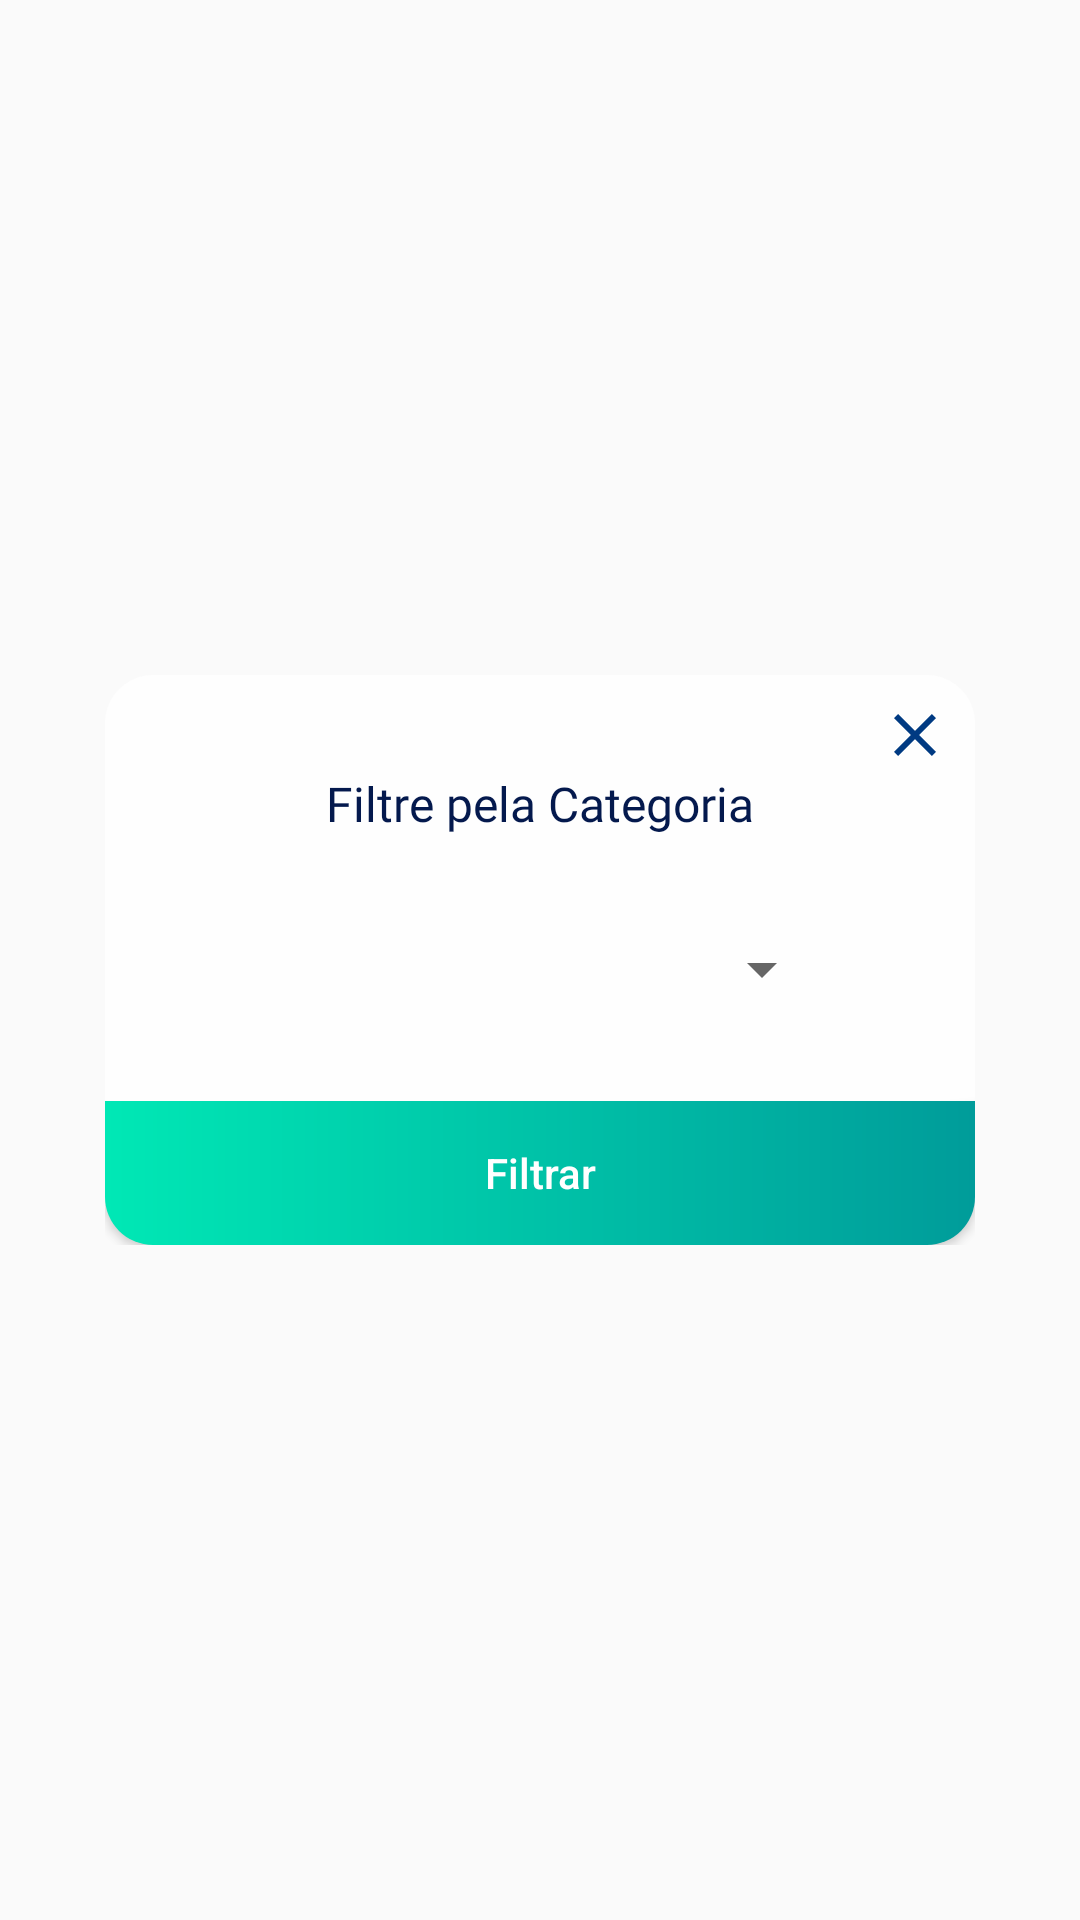

Icon bounding boxes for this 1080*1920 phone screenshot, format (x1, y1, x2, y2):
close: (894, 714, 936, 756)
